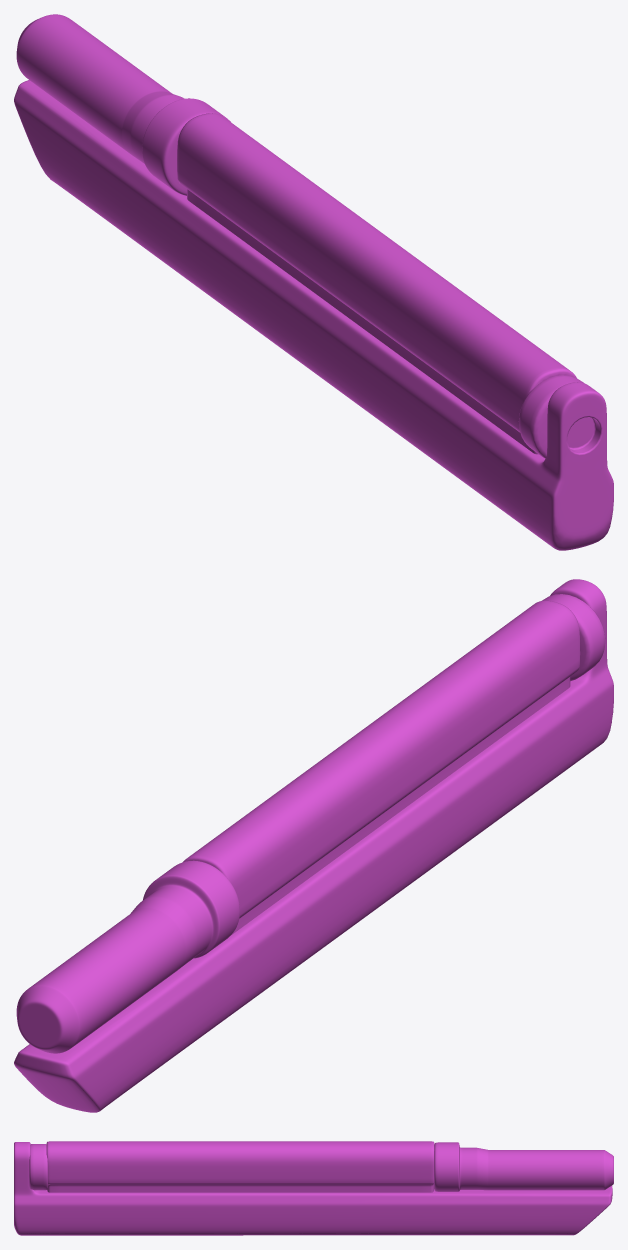
The model's file is part_barrel_04.fbx.
3 views of the same model, one above another, from view 1: azimuth 30°, elevation 25°; view 2: azimuth 150°, elevation 25°; view 3: azimuth 270°, elevation 25° (orthographic). The views are drawn at different scales.
Visible parts, largest first — view 1: part_barrel_04; view 2: part_barrel_04; view 3: part_barrel_04.
Boxes of the visible parts, bbox=[...] form: part_barrel_04: bbox=[14, 14, 613, 550]; part_barrel_04: bbox=[14, 579, 613, 1112]; part_barrel_04: bbox=[14, 1141, 613, 1235].
Bounding box in the file's own units: 7.6 × 14.95 × 92.22.
